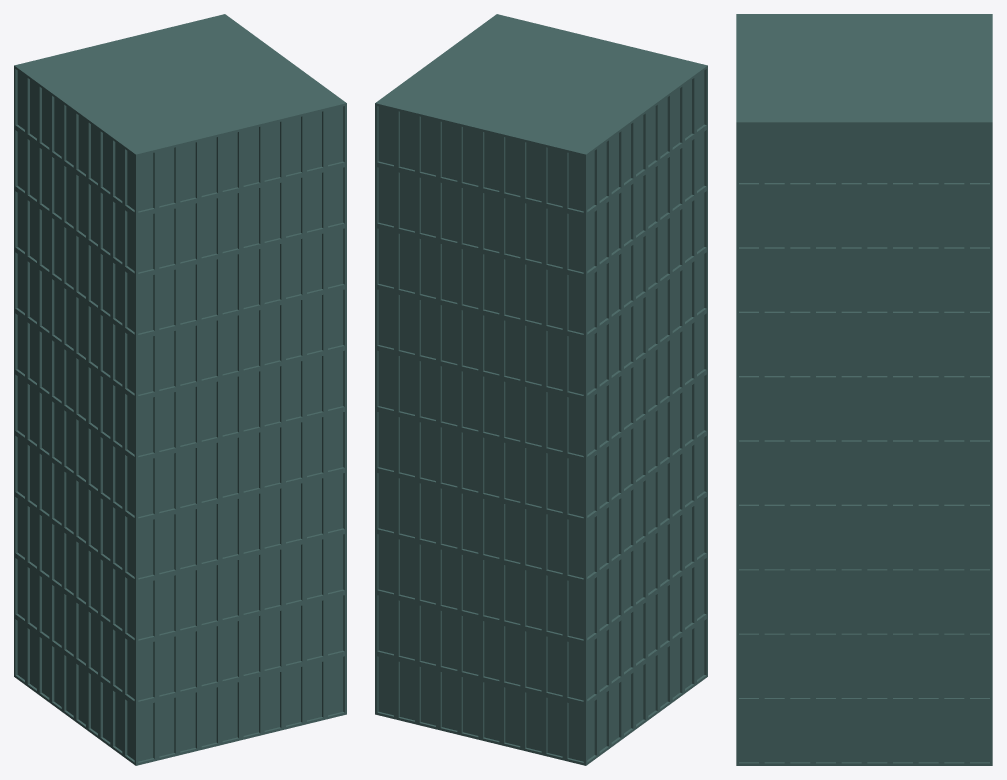
The model's file is GlassBuild1.fbx.
3 renders of one model, left to right at view 1: azimuth 30°, elevation 25°; view 2: azimuth 150°, elevation 25°; view 3: azimuth 270°, elevation 25°, orthographic. The views are drawn at different scales.
Visible parts, largest first — view 1: Build; view 2: Build; view 3: Build.
Boxes of the visible parts, bbox=[...] form: Build: bbox=[14, 14, 346, 765]; Build: bbox=[375, 14, 707, 765]; Build: bbox=[736, 14, 992, 765].
Bounding box in the file's own units: 0.9129 × 2.53 × 0.9129.
